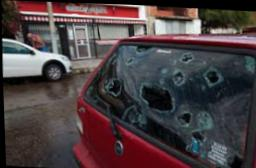Windshield: (81, 40, 256, 168)
